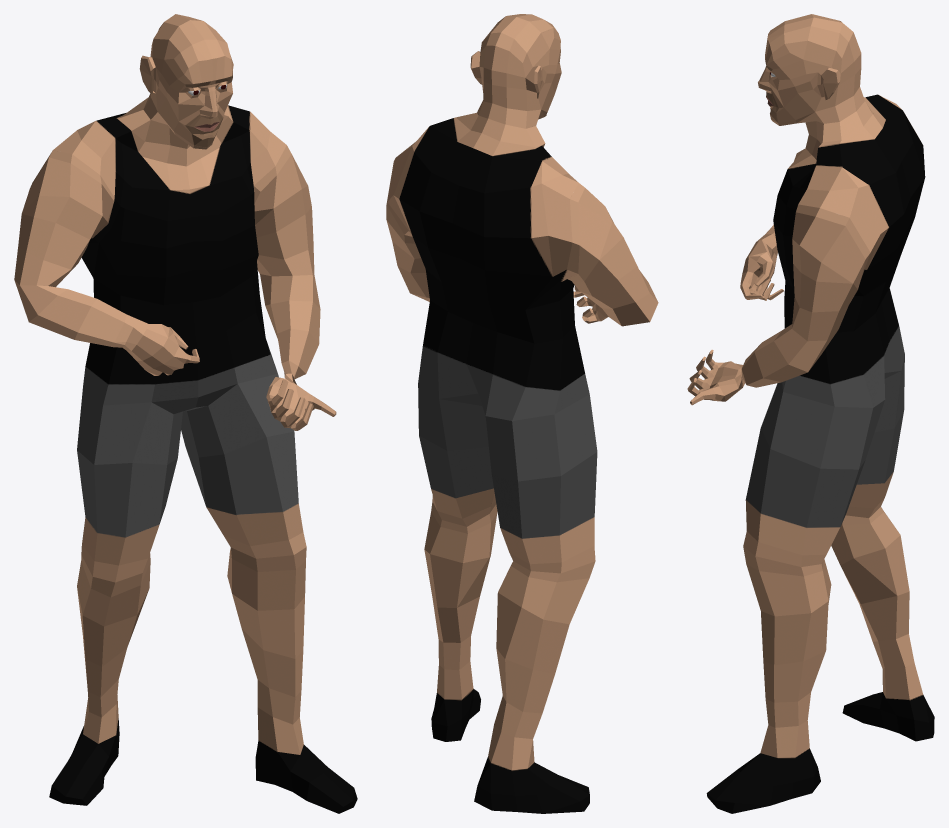
The model's file is PlayerIdle(226).obj.
The picture shows the model from 3 angles, left to right: view 1: azimuth 30°, elevation 25°; view 2: azimuth 150°, elevation 25°; view 3: azimuth 270°, elevation 25°; orthographic projection. The views are drawn at different scales.
Visible parts, largest first — view 1: Plane002; view 2: Plane002; view 3: Plane002.
Part boxes in pixels (x1=…): Plane002: x1=14, y1=14, x2=357, y2=813; Plane002: x1=386, y1=14, x2=658, y2=813; Plane002: x1=687, y1=14, x2=934, y2=813.
Size of the model in its own units: 678 by 1804 by 547.
